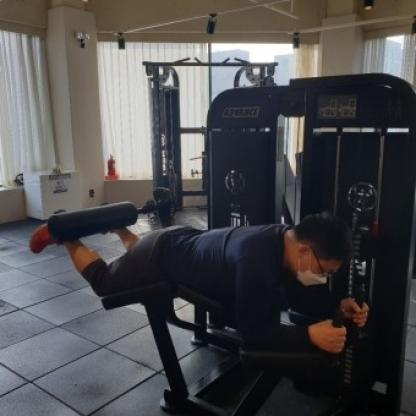reg curl machine: (27, 71, 414, 416)
